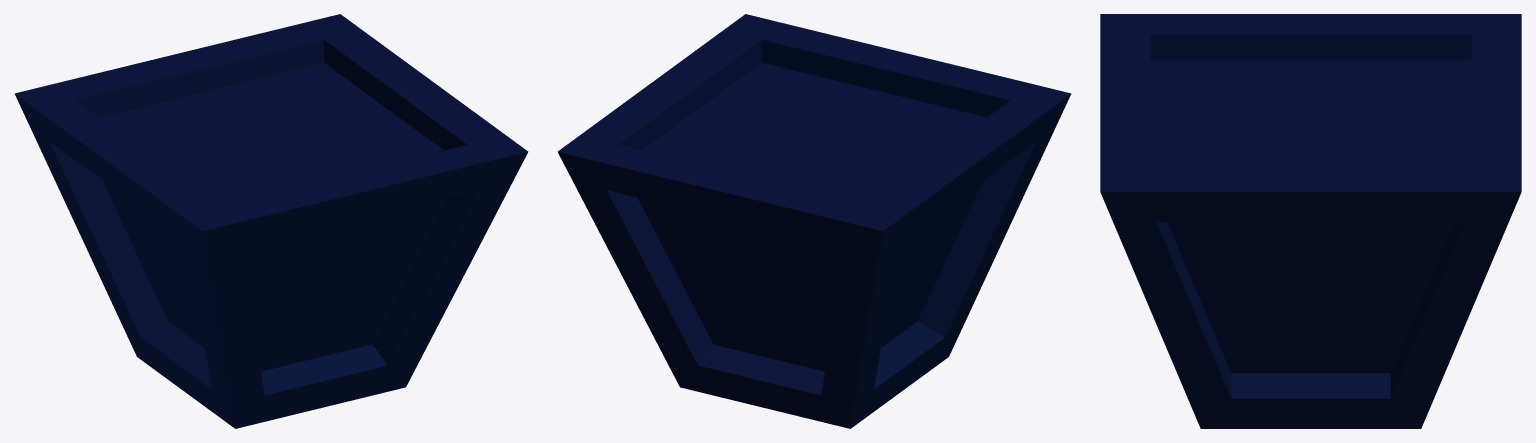
Rendered from MonitorLight.fbx.
3 views of the same model, side by side, from view 1: azimuth 30°, elevation 25°; view 2: azimuth 150°, elevation 25°; view 3: azimuth 270°, elevation 25° (orthographic). The views are drawn at different scales.
Parts seen in each view (by area): view 1: Cube, Cube.001; view 2: Cube, Cube.001; view 3: Cube, Cube.001.
Part boxes in pixels (box(x1,y1,x2,y2)): Cube: box(14, 14, 528, 428); Cube.001: box(99, 62, 448, 371); Cube: box(557, 14, 1071, 428); Cube.001: box(637, 62, 986, 371); Cube: box(1100, 14, 1521, 428); Cube.001: box(1150, 60, 1471, 373).
Size of the model in its own units: 273 by 200 by 273.
